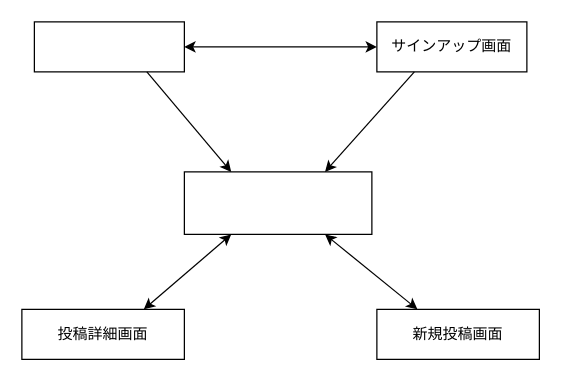
This 561x381 diagram has some shape labels left out. Here are the shapes that lost their labels. From the top down, the box of each, then its label:
(33, 21, 184, 72): ログイン画面
(183, 171, 372, 234): 投稿一覧画面
